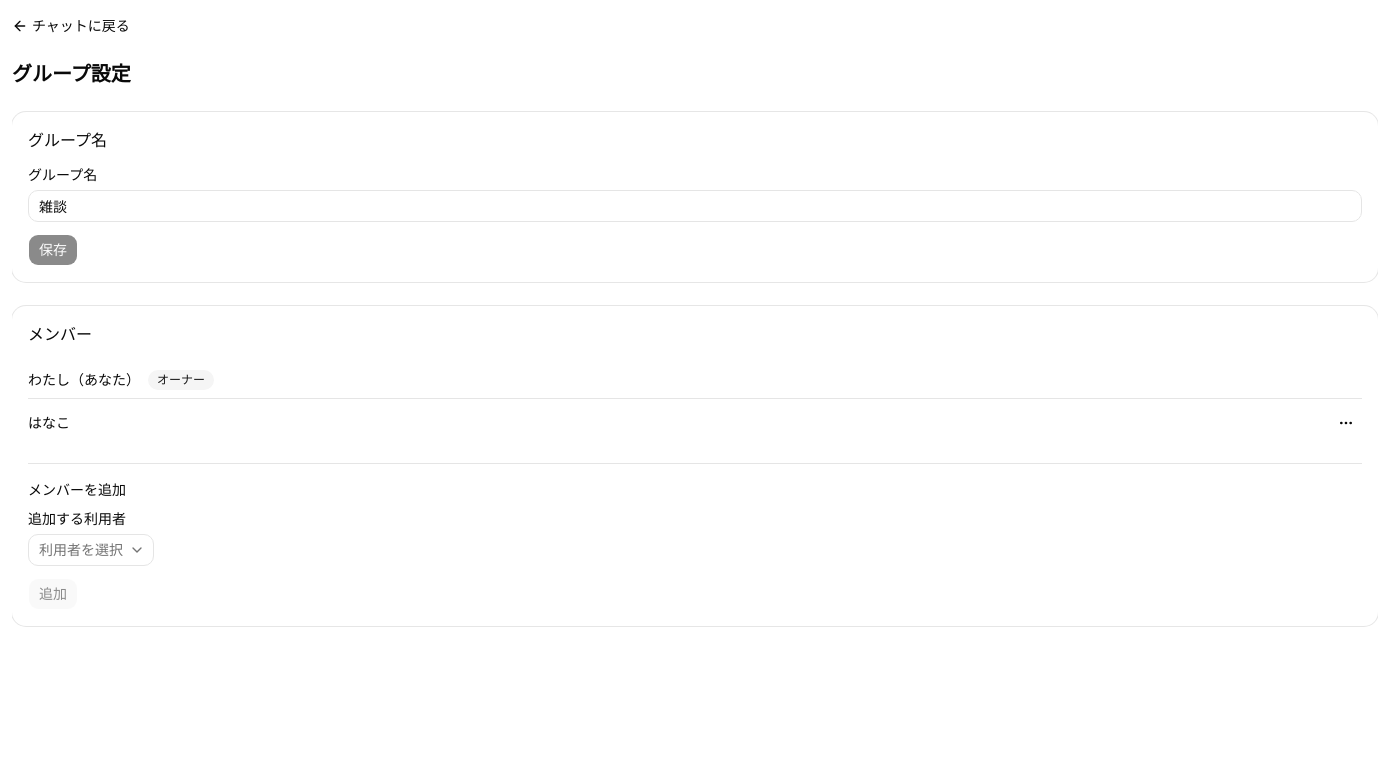
it: GroupSettingsView › 名前の変更に成功すると表示に反映され、保存が無効に戻る
Replace the text in the field labelled "グループ名" with "新名" at (695, 206), box left=28, top=190, right=1362, bottom=222
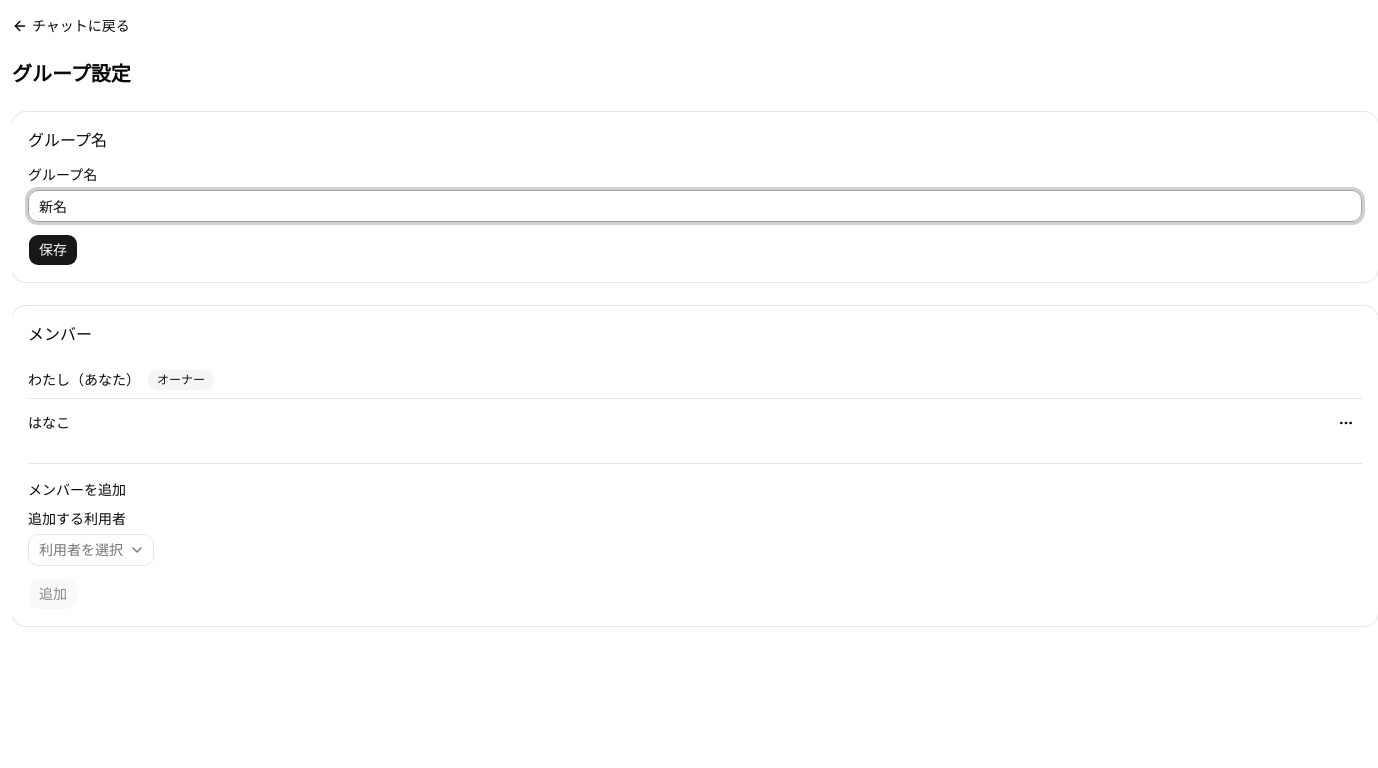
Click the button "保存" at (53, 250), box left=28, top=234, right=78, bottom=266
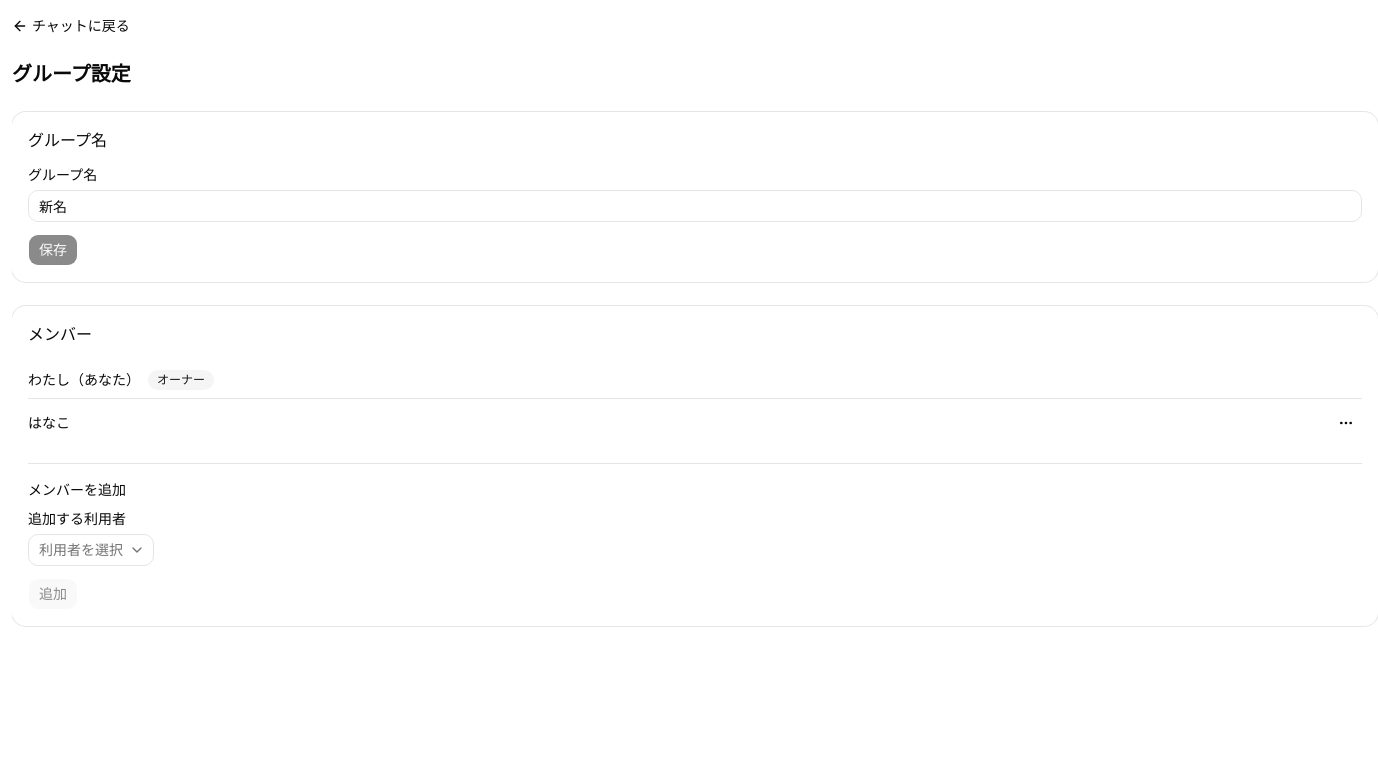
Result: the button "保存" is disabled at left=28, top=234, right=78, bottom=266
